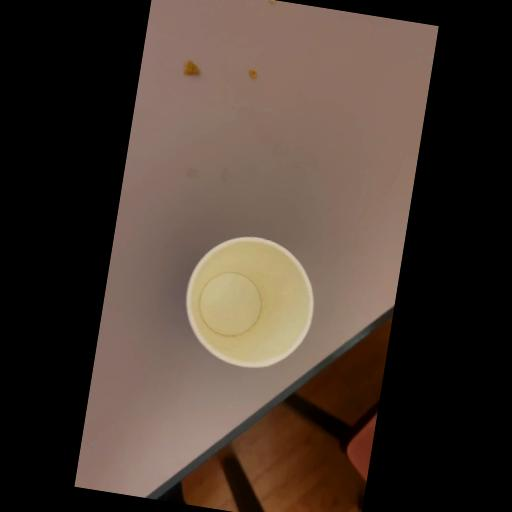lp_paper_cup: (170, 224, 333, 386)
